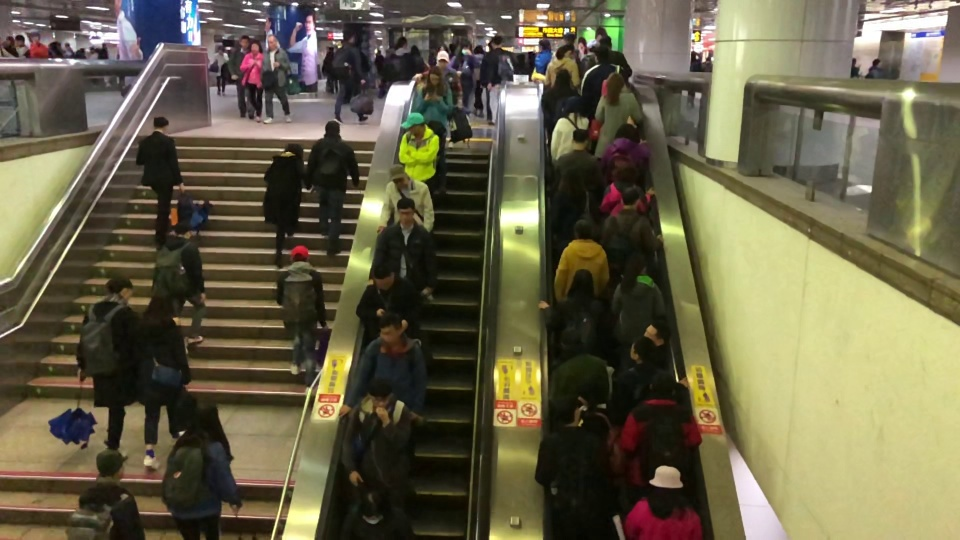person_head: (646, 465, 685, 516), (565, 268, 596, 306), (357, 489, 389, 525), (95, 449, 128, 482), (189, 403, 220, 438), (647, 370, 678, 401), (553, 393, 580, 428), (367, 376, 392, 410), (577, 378, 606, 407), (145, 289, 175, 317), (628, 335, 658, 363), (378, 311, 404, 343), (558, 163, 585, 193), (104, 275, 135, 300), (643, 321, 671, 348), (372, 261, 396, 291), (603, 71, 625, 102), (611, 161, 640, 183), (400, 111, 425, 136), (624, 252, 648, 278), (387, 163, 411, 188), (396, 196, 414, 228), (614, 122, 640, 144), (558, 325, 581, 349), (619, 184, 641, 208), (572, 217, 593, 241), (553, 68, 574, 91), (570, 127, 589, 151), (288, 245, 310, 264), (564, 95, 583, 114), (173, 220, 193, 238), (284, 142, 304, 160), (152, 115, 170, 133), (436, 49, 450, 72), (427, 65, 442, 85), (593, 48, 612, 63), (556, 45, 574, 60), (26, 31, 42, 47), (325, 118, 340, 135), (459, 41, 474, 57), (343, 28, 356, 44), (239, 32, 250, 50), (395, 35, 408, 50), (538, 38, 551, 53), (562, 31, 575, 45), (250, 39, 262, 54), (492, 34, 504, 49), (587, 37, 599, 52), (267, 35, 278, 50), (600, 36, 613, 48), (871, 55, 882, 68), (472, 44, 484, 55), (15, 34, 25, 46), (411, 42, 419, 57), (688, 49, 697, 61), (217, 44, 226, 55), (850, 55, 858, 67)
person_vbox: (337, 313, 429, 488), (74, 275, 139, 462), (160, 399, 240, 540), (535, 388, 608, 539), (135, 292, 194, 470), (619, 370, 703, 491), (376, 163, 443, 302), (340, 376, 414, 495), (276, 244, 328, 395), (61, 449, 148, 539), (370, 196, 437, 309), (149, 218, 208, 346), (135, 113, 187, 253), (611, 336, 689, 427), (535, 267, 606, 366), (308, 121, 360, 256), (262, 140, 315, 270), (608, 250, 667, 360), (547, 324, 617, 416), (620, 464, 704, 540), (576, 377, 631, 486), (600, 186, 663, 281), (357, 261, 424, 348), (551, 218, 610, 306), (413, 51, 464, 149), (548, 128, 604, 217), (411, 67, 450, 194), (594, 72, 643, 160), (336, 490, 417, 540), (577, 49, 628, 128), (549, 162, 602, 237), (328, 28, 369, 124), (600, 121, 651, 188), (399, 110, 438, 196), (485, 35, 520, 126), (260, 33, 293, 126), (597, 164, 654, 217), (551, 95, 591, 167), (226, 35, 256, 118), (542, 68, 581, 129), (448, 43, 480, 113), (532, 43, 579, 89), (239, 40, 265, 121), (588, 37, 632, 77), (379, 36, 415, 82), (206, 44, 231, 96), (471, 44, 485, 120), (686, 46, 703, 108), (533, 38, 552, 75), (864, 55, 889, 81), (410, 43, 430, 75), (27, 31, 50, 57), (846, 51, 863, 80), (11, 35, 31, 57)
